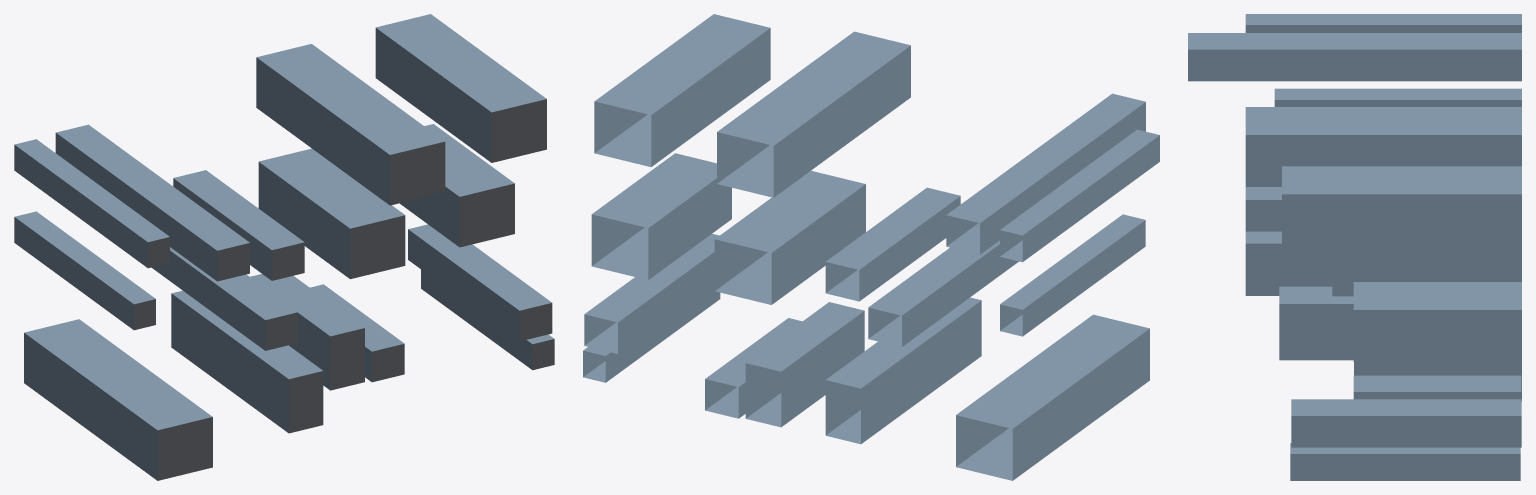
Rendered from island_bldg_13_09.obj.
3 renders of one model, left to right at view 1: azimuth 30°, elevation 25°; view 2: azimuth 150°, elevation 25°; view 3: azimuth 270°, elevation 25°, orthographic. The views are drawn at different scales.
Parts seen in each view (by area): view 1: island_bldg_13_09; view 2: island_bldg_13_09; view 3: island_bldg_13_09.
Boxes of the visible parts, left/top/right/bottom form: island_bldg_13_09: left=14, top=14, right=554, bottom=480; island_bldg_13_09: left=583, top=14, right=1159, bottom=480; island_bldg_13_09: left=1188, top=14, right=1521, bottom=480.
Bounding box in the file's own units: 248 × 152 × 162.
